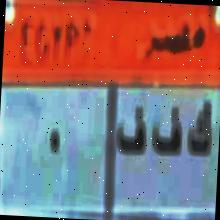0: (42, 119, 67, 165)
faa: (150, 102, 186, 168), (114, 100, 148, 164)
kaaf: (186, 98, 214, 170)
